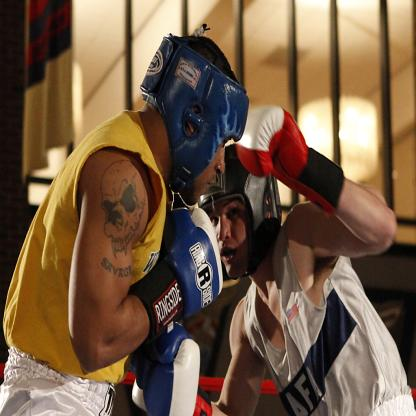Helmet: (140, 22, 251, 195), (196, 145, 282, 279)
